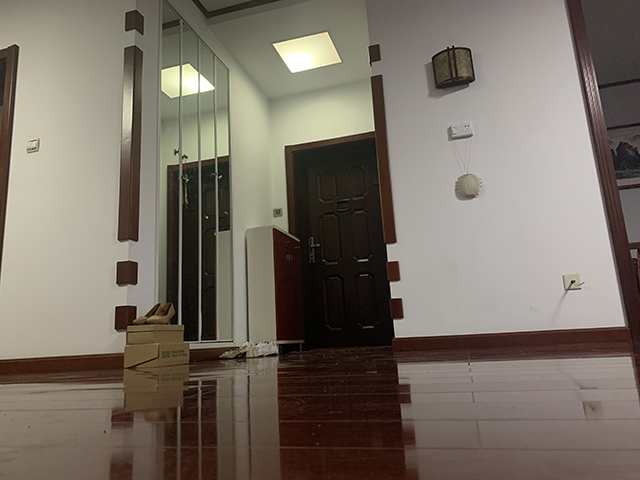cabinet: (245, 223, 305, 354)
